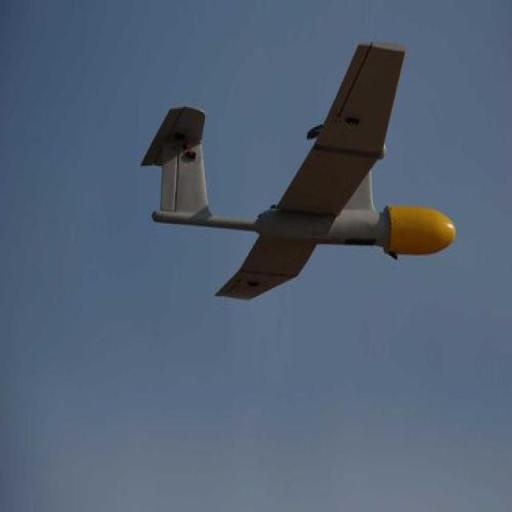uav: (130, 40, 469, 317)
